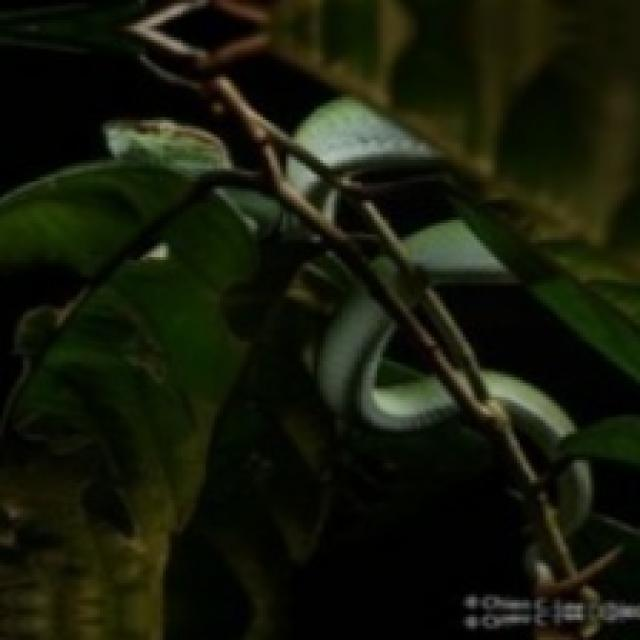north ph temple pitviper: (320, 289, 458, 431), (295, 98, 435, 169), (483, 371, 575, 451), (105, 121, 230, 173), (405, 220, 510, 281), (566, 464, 590, 510), (289, 158, 320, 191)
